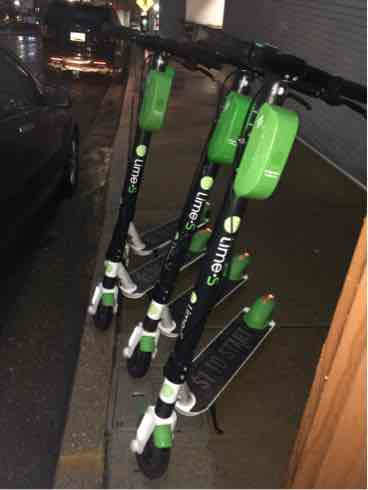too close: (67, 265, 134, 334)
